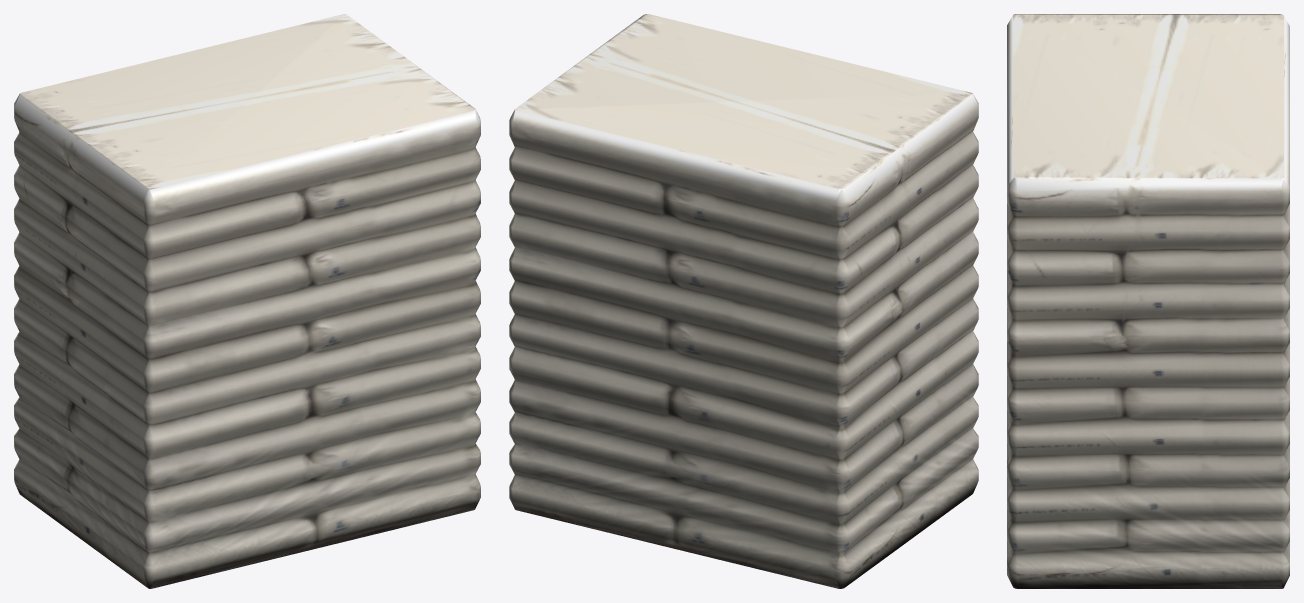
File: palette_zementsaecke_typ1.fbx
The picture shows the model from 3 angles, left to right: view 1: azimuth 30°, elevation 25°; view 2: azimuth 150°, elevation 25°; view 3: azimuth 270°, elevation 25°; orthographic projection. The views are drawn at different scales.
Visible parts, largest first — view 1: Mesh; view 2: Mesh; view 3: Mesh.
Part boxes in pixels (bbox=[...]): Mesh: bbox=[14, 14, 480, 588]; Mesh: bbox=[509, 14, 978, 588]; Mesh: bbox=[1007, 14, 1289, 588].
Size of the model in its own units: 135 by 152 by 95.19.
